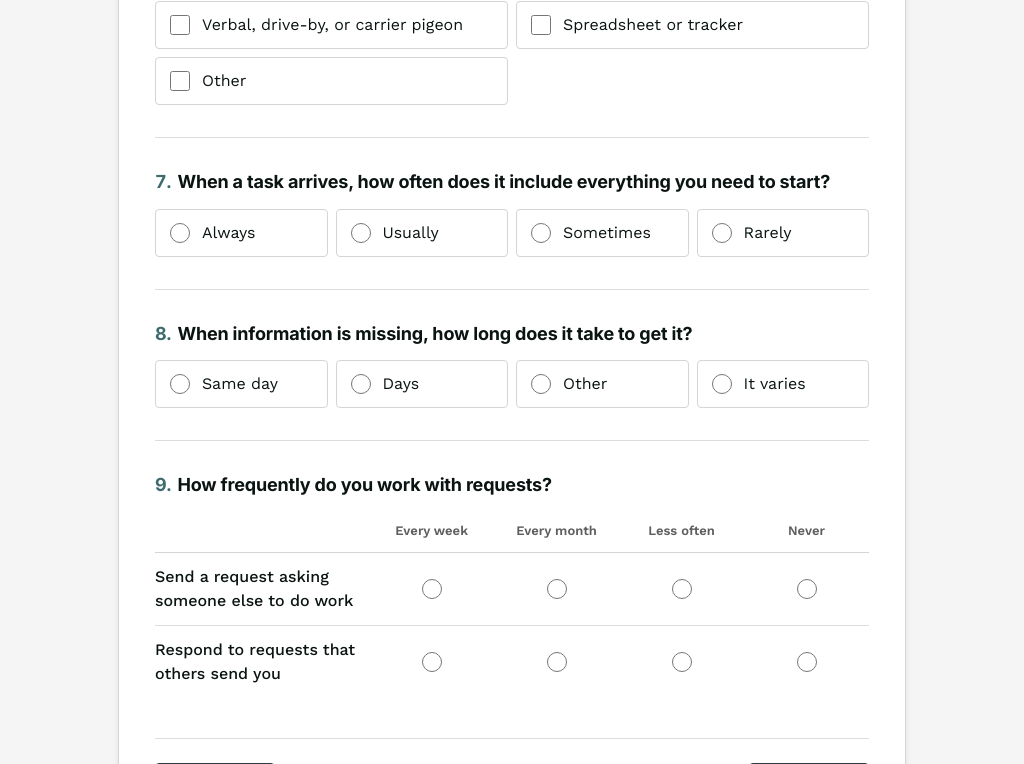
Test: work survey (combined) › shows the fill-in only when Other is picked
(page scrolled)
Expected: the field labelled "How long does it usually take?" is not shown
Click the radio button labelled "Other" at (541, 384), box x1=531 y1=374 x2=551 y2=394
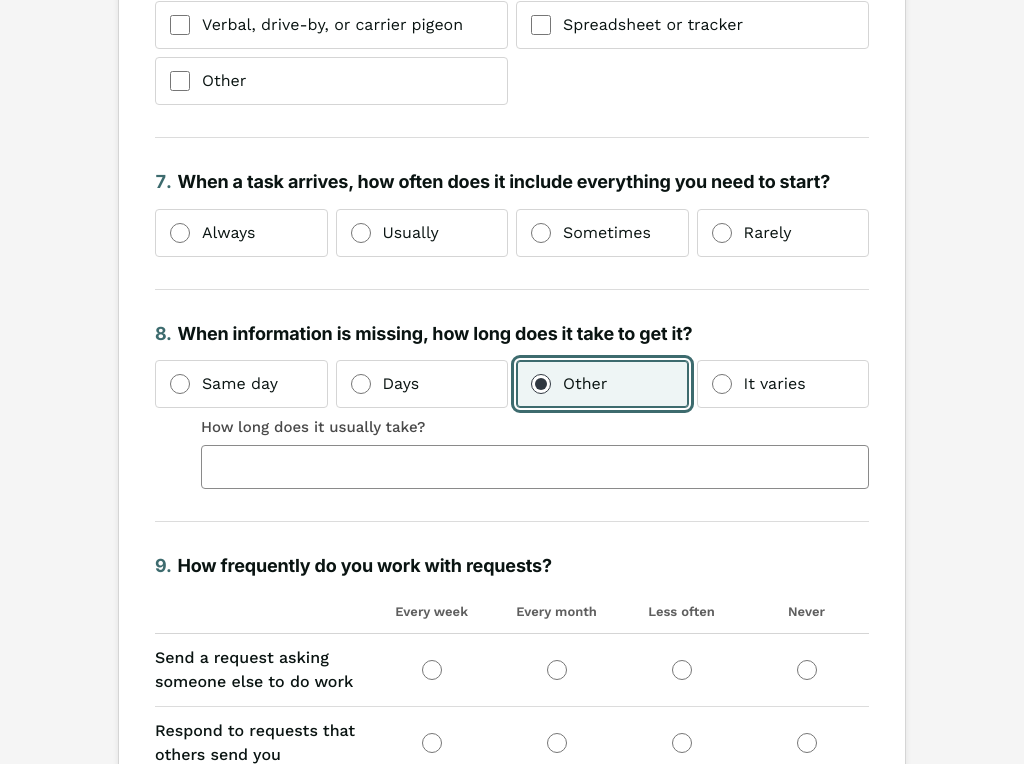
Expected: the field labelled "How long does it usually take?" is shown, x1=201 y1=445 x2=869 y2=489
